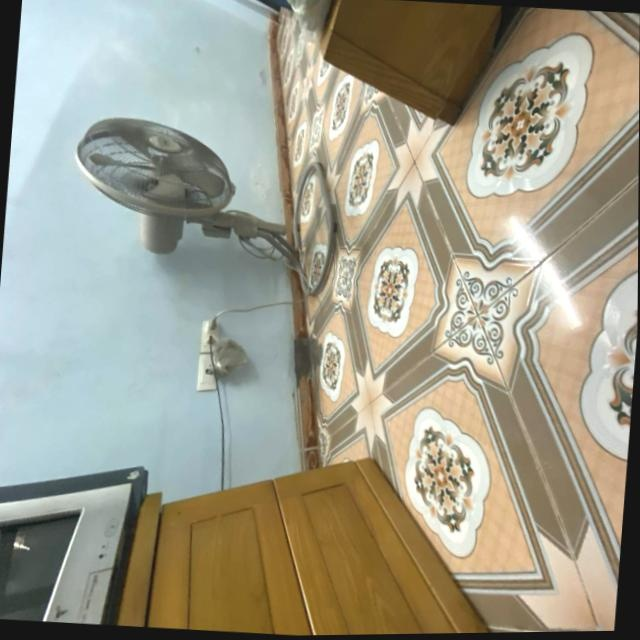outlet: (196, 353, 220, 392), (199, 317, 221, 353)
